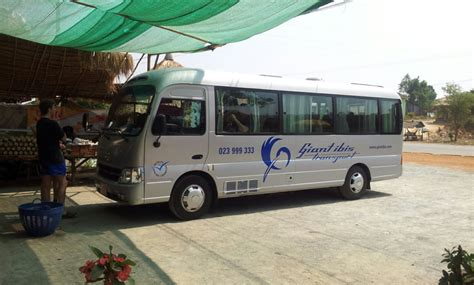bus: (99, 69, 402, 211)
